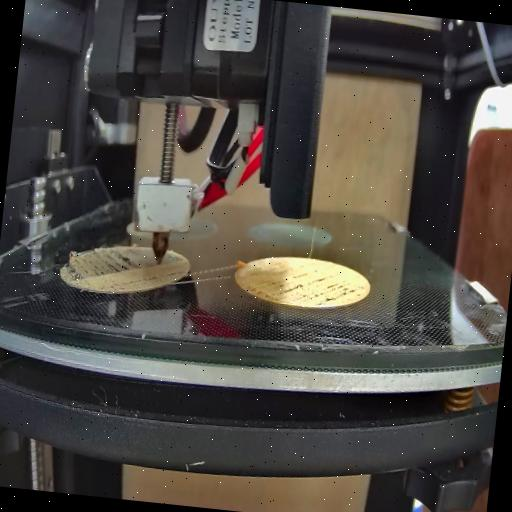under_extrusion: (242, 268, 366, 310), (63, 246, 146, 289), (145, 266, 189, 284)
